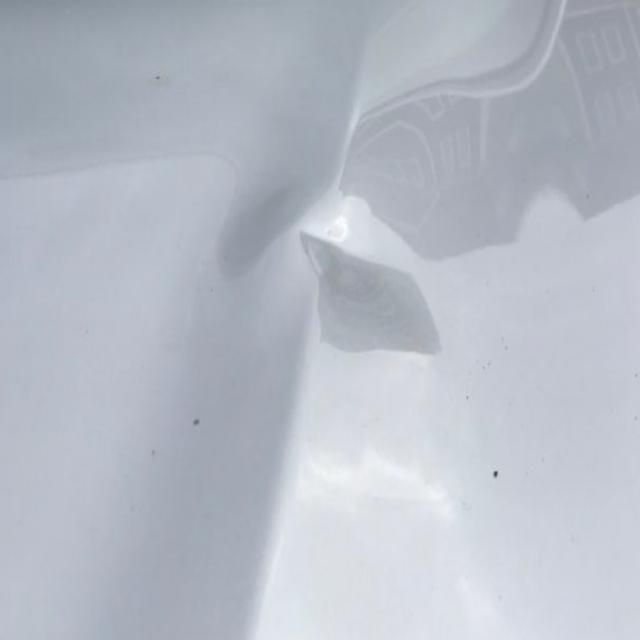dents: (262, 234, 325, 355)
